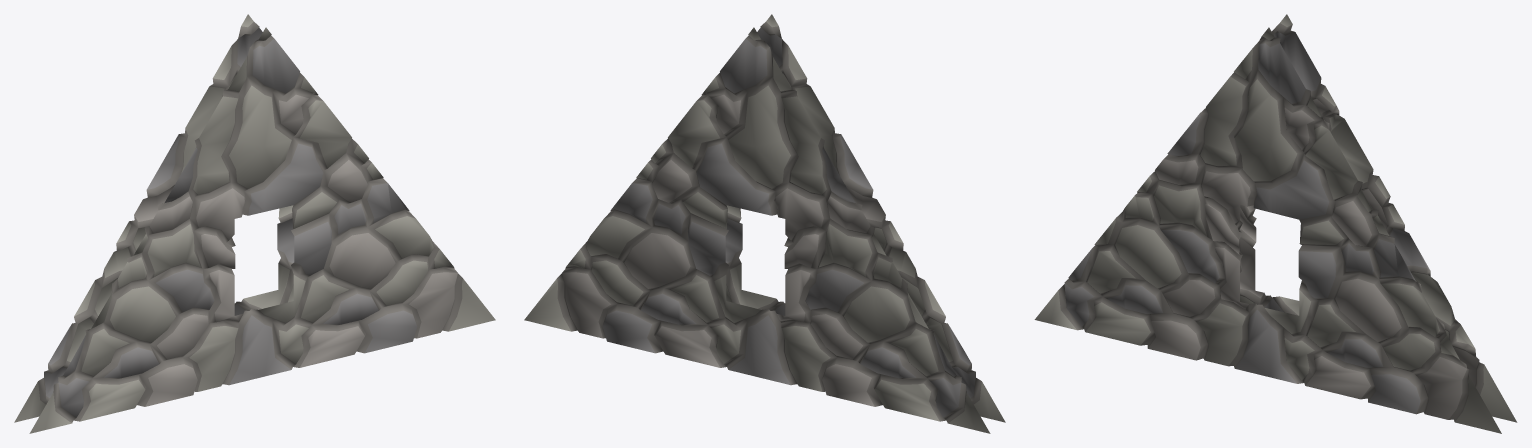
The model's file is rpgpp_ag_roof_end_01_6x5_wall_window_03d.fbx.
The picture shows the model from 3 angles, left to right: view 1: azimuth 30°, elevation 25°; view 2: azimuth 150°, elevation 25°; view 3: azimuth 330°, elevation 25°; orthographic projection.
Parts seen in each view (by area): view 1: rpgpp_ag_roof_end_01_6x5_wall_window_03d; view 2: rpgpp_ag_roof_end_01_6x5_wall_window_03d; view 3: rpgpp_ag_roof_end_01_6x5_wall_window_03d.
Part boxes in pixels (x1,y1,x2,y2): rpgpp_ag_roof_end_01_6x5_wall_window_03d: (14,14,495,433); rpgpp_ag_roof_end_01_6x5_wall_window_03d: (524,14,1005,433); rpgpp_ag_roof_end_01_6x5_wall_window_03d: (1034,14,1517,433).
Bounding box in the file's own units: 6.38 × 4.58 × 0.4229.
